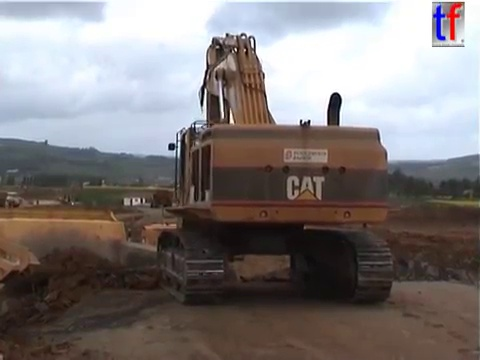excavator: (152, 29, 396, 305), (55, 179, 89, 207)
truck: (1, 206, 205, 329), (125, 221, 245, 278), (1, 189, 24, 210)
